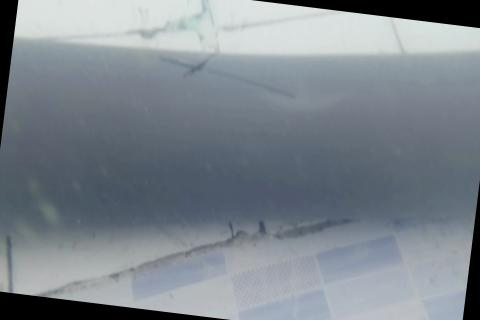keretakan: (155, 51, 298, 100)
